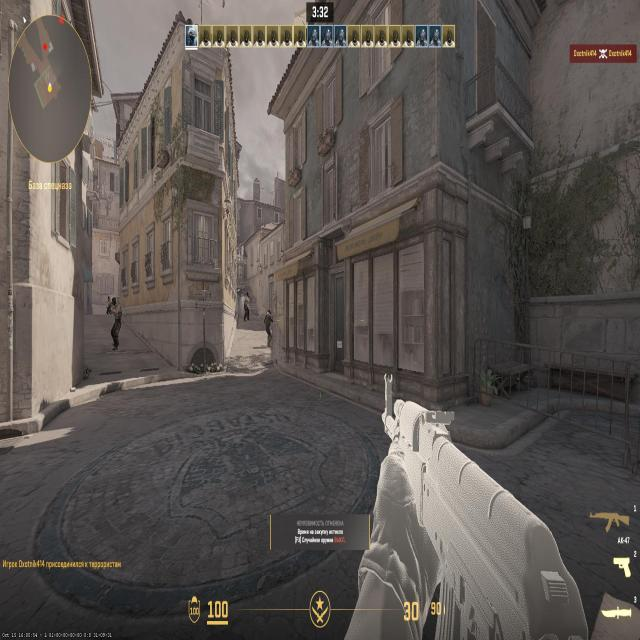CT: (267, 309, 273, 346)
CT_heat: (268, 310, 271, 314)
T: (113, 299, 120, 349), (246, 292, 250, 320)
T_heat: (113, 297, 116, 305), (246, 292, 249, 298)
